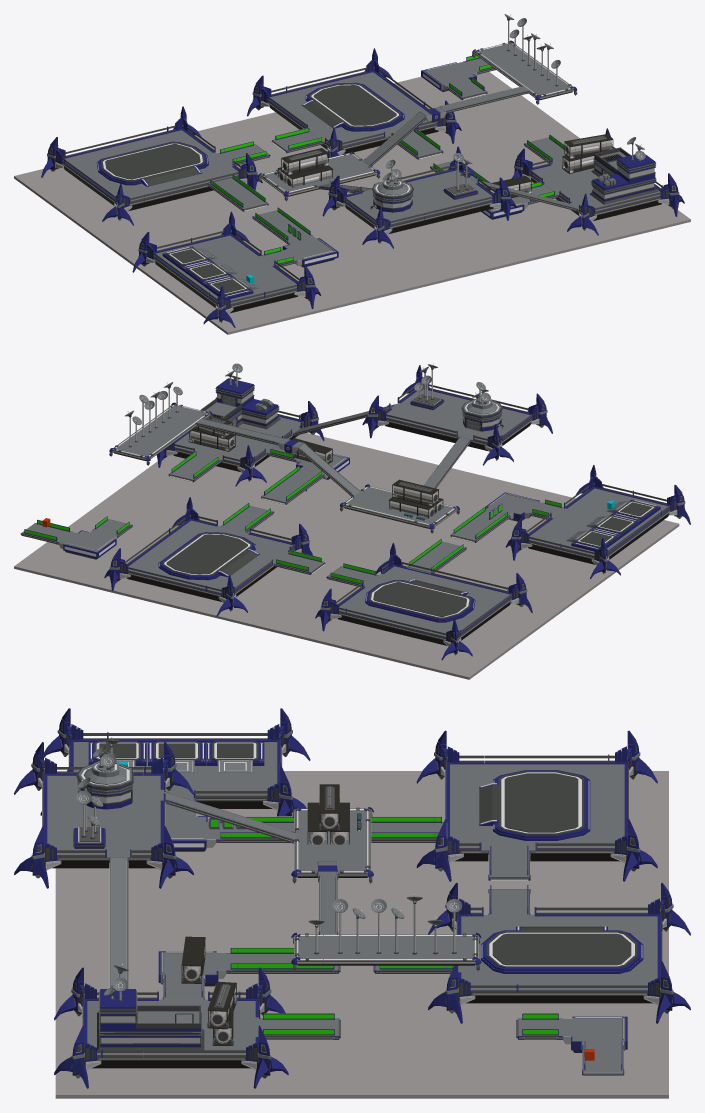
3 views of the same model, one above another, from view 1: azimuth 30°, elevation 25°; view 2: azimuth 150°, elevation 25°; view 3: azimuth 270°, elevation 25° (orthographic). The views are drawn at different scales.
Visible parts, largest first — view 1: ground.006, Big Platform.004, Big Platform.001, Big Platform.006, Big Platform.009, Big Platform.008, landing pad large.001, landing pad large.002, house 3.001, small platform.004, small platform.003, comms room.001 (+18 smaller); view 2: ground.006, Big Platform.004, Big Platform.006, Big Platform.001, Big Platform.009, Big Platform.008, landing pad large.002, landing pad large.001, small platform.004, house 3.001, small platform.003, path large bridge.009 (+21 smaller); view 3: ground.006, Big Platform.004, Big Platform.006, Big Platform.009, Big Platform.008, Big Platform.001, landing pad large.001, landing pad large.002, small platform.004, house 3.001, small platform.003, path small .003 (+24 smaller).
Boxes of the visible parts, x1,y1,x2,y2 form: ground.006: (14,72,690,334); Big Platform.004: (41,106,262,225); Big Platform.001: (132,211,320,327); Big Platform.006: (247,48,461,157); Big Platform.009: (322,146,516,248); Big Platform.008: (511,128,684,235); landing pad large.001: (96,141,208,186); landing pad large.002: (301,82,404,131); house 3.001: (589,147,658,204); small platform.004: (472,40,577,104); small platform.003: (258,151,380,201); comms room.001: (372,178,413,212); ground.006: (14,433,679,679); Big Platform.004: (315,543,532,660); Big Platform.006: (104,497,312,616); Big Platform.001: (505,465,690,578); Big Platform.009: (362,365,552,465); Big Platform.008: (156,401,324,486); landing pad large.002: (158,532,259,580); landing pad large.001: (365,579,475,622); small platform.004: (109,402,212,465); house 3.001: (200,378,280,429); small platform.003: (340,484,459,533); path large bridge.009: (261,465,324,504); ground.006: (55,771,668,1098); Big Platform.004: (416,730,657,881); Big Platform.006: (428,882,690,1023); Big Platform.009: (14,742,193,888); Big Platform.008: (54,967,288,1088); Big Platform.001: (40,708,310,816); landing pad large.001: (479,770,590,840); landing pad large.002: (481,926,643,973); small platform.004: (291,932,481,971); house 3.001: (97,989,204,1050); small platform.003: (291,807,373,883); path small .003: (109,856,128,988).
Bounding box in the file's own units: 42128 × 35116 × 9974.
